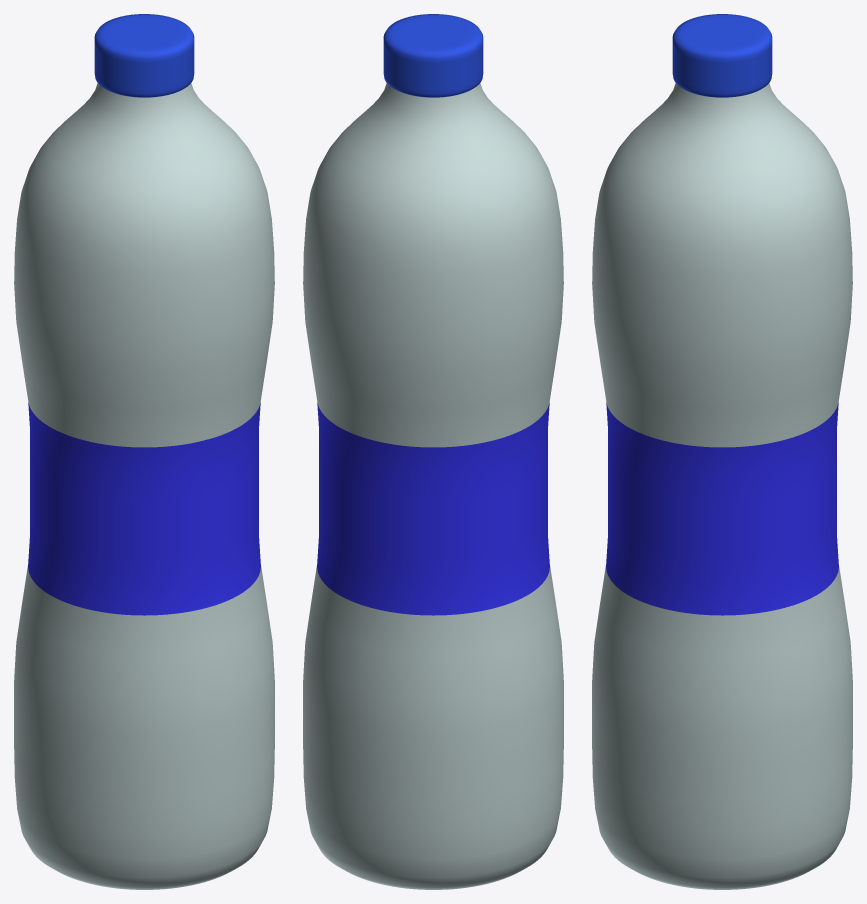
Rendered from Pat bottle.fbx.
3 renders of one model, left to right at view 1: azimuth 30°, elevation 25°; view 2: azimuth 150°, elevation 25°; view 3: azimuth 270°, elevation 25°, orthographic.
Parts seen in each view (by area): view 1: Cylinder001, Cylinder002; view 2: Cylinder001, Cylinder002; view 3: Cylinder001, Cylinder002.
Boxes of the visible parts, x1,y1,x2,y2 form: Cylinder001: (14,83,274,889); Cylinder002: (94,14,194,97); Cylinder001: (303,83,563,889); Cylinder002: (383,14,483,97); Cylinder001: (592,83,852,889); Cylinder002: (672,14,772,97).
Size of the model in its own units: 41.52 by 143 by 41.52.
